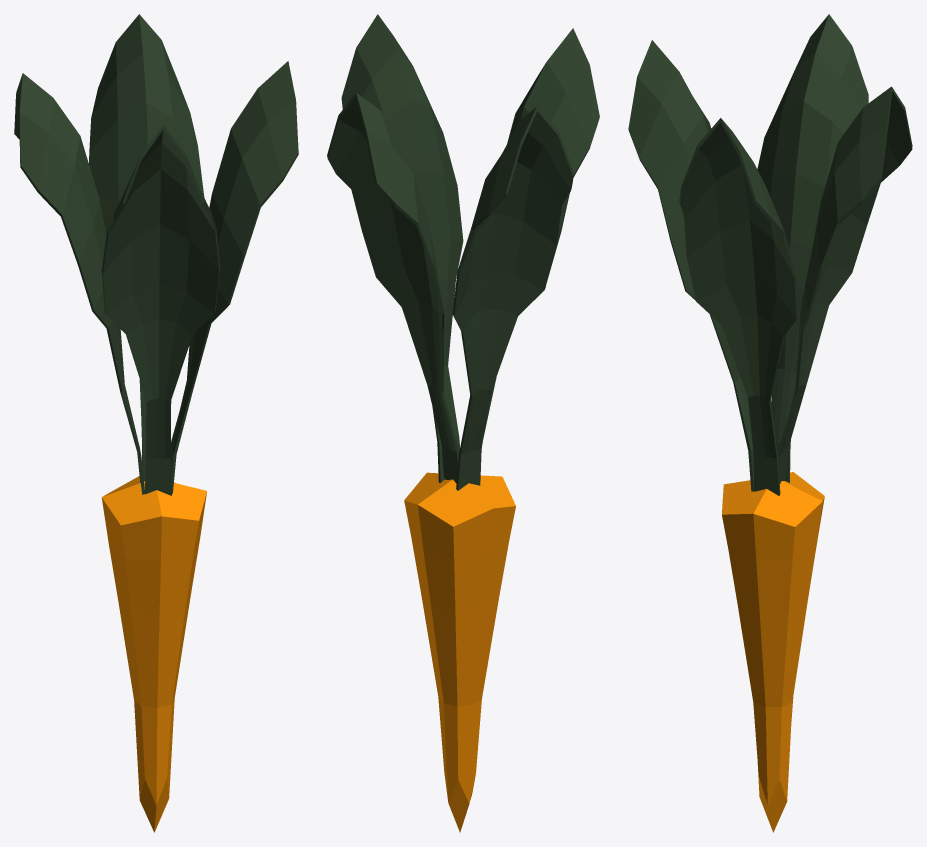
Rendered from Karrot.fbx.
3 renders of one model, left to right at view 1: azimuth 30°, elevation 25°; view 2: azimuth 150°, elevation 25°; view 3: azimuth 270°, elevation 25°, orthographic.
Parts seen in each view (by area): view 1: Carrot; view 2: Carrot; view 3: Carrot.
Part boxes in pixels (<box>): Carrot: <box>14,14,298,832</box>; Carrot: <box>327,14,599,832</box>; Carrot: <box>628,14,912,832</box>.
Size of the model in its own units: 94.67 by 278 by 93.16.
